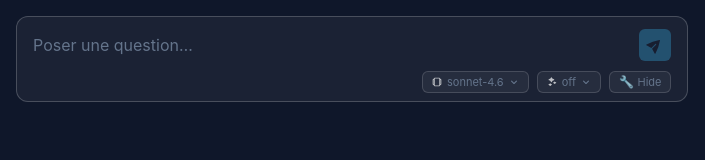
ChatView token usage indicator › keeps the model, thinking and tools controls working
Check: the button with aria-label "Modèle" reads "sonnet-4.6", box [422,71,529,93]
Click the button with aria-label "Tools": coordinates (640, 82) [609,71,671,93]
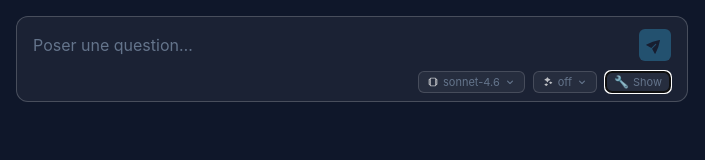
Check: the button with aria-label "Tools" shows "Show", box [605,71,671,93]
